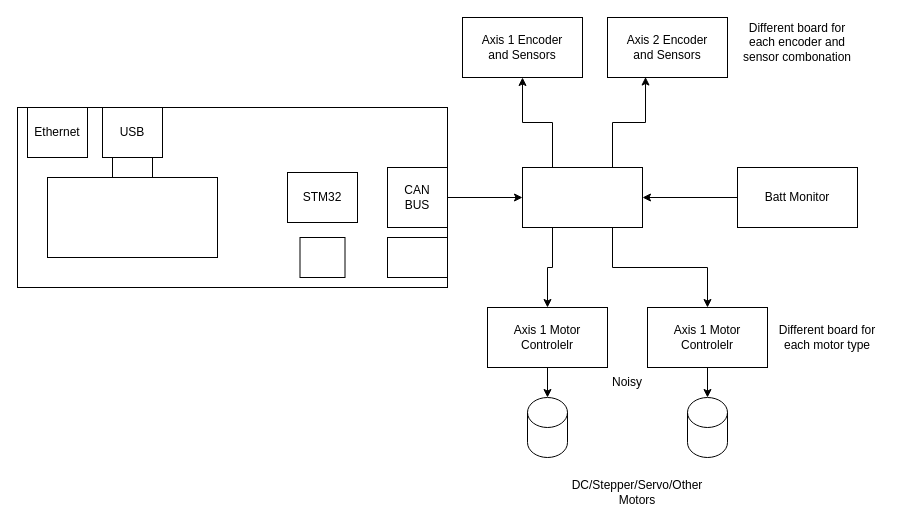
This 905x525 diagram has some shape labels left out. Here are the shapes that lost their labels. From the top down, the centre of each, then its label:
At point (132, 167): "hub".
At point (132, 217): "CM4".
At point (582, 197): "CAN Hub".
At point (322, 257): "Mem".
At point (417, 257): "GPS".
